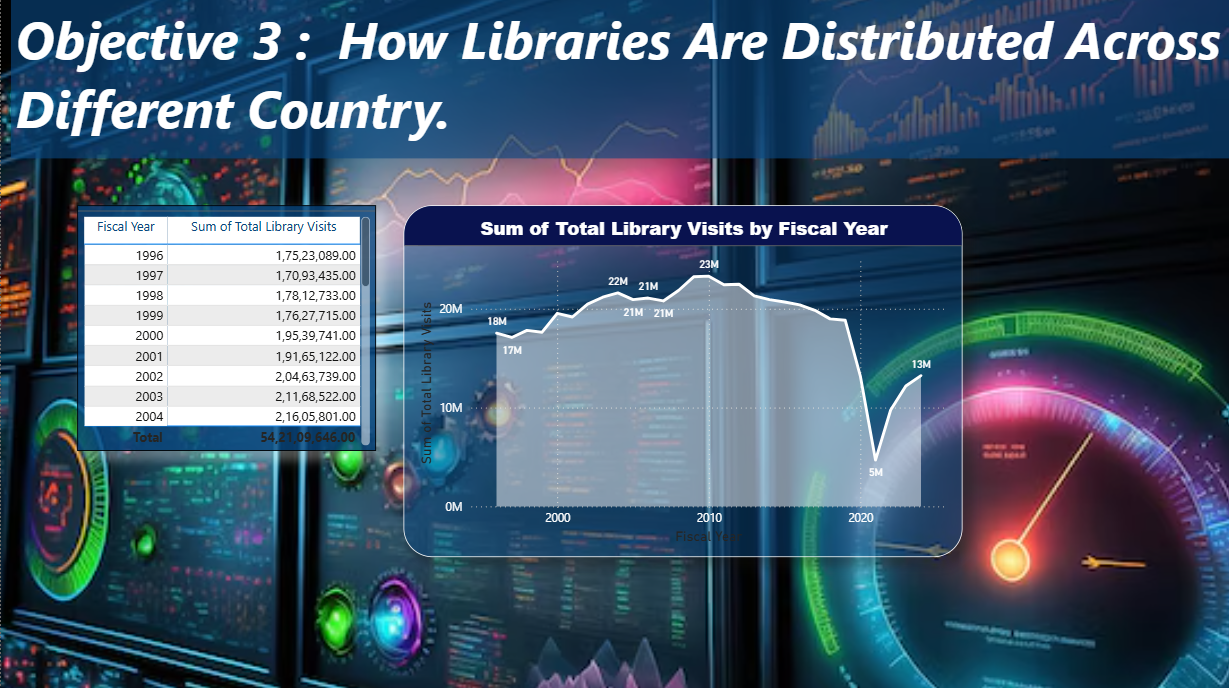

What the dashboard file says about the page in this screenshot:
{"tool":"powerbi","page":{"name":"Objective 5 ","canvas":[1280,720],"ordinal":6},"visuals":[{"type":"textbox","box":[10.6,0,1269.4,165.9],"z":0},{"type":"tableEx","fields":{"Values":["Public_Libraries.Fiscal Year","Sum(Public_Libraries.Total Library Visits)"]},"box":[78.8,214.1,310.6,255.3],"z":1000},{"type":"lineChart","fields":{"Y":["Sum(Public_Libraries.Total Library Visits)"],"Category":["Public_Libraries.Fiscal Year.Variation.Date Hierarchy.Year"]},"box":[417.6,214.1,581.2,365.9],"z":2000}]}

Visuals, with their boxes in screenshot pixels (x1, y1, x2, y2), scaled from the page's 1280x720 canvas onto the 1229x688 screenshot:
textbox: l=10, t=0, r=1228, b=159
tableEx - Public_Libraries.Fiscal Year x Sum(Public_Libraries.Total Library Visits): l=76, t=205, r=374, b=449
lineChart - Sum(Public_Libraries.Total Library Visits) x Public_Libraries.Fiscal Year.Variation.Date Hierarchy.Year: l=401, t=205, r=959, b=554
